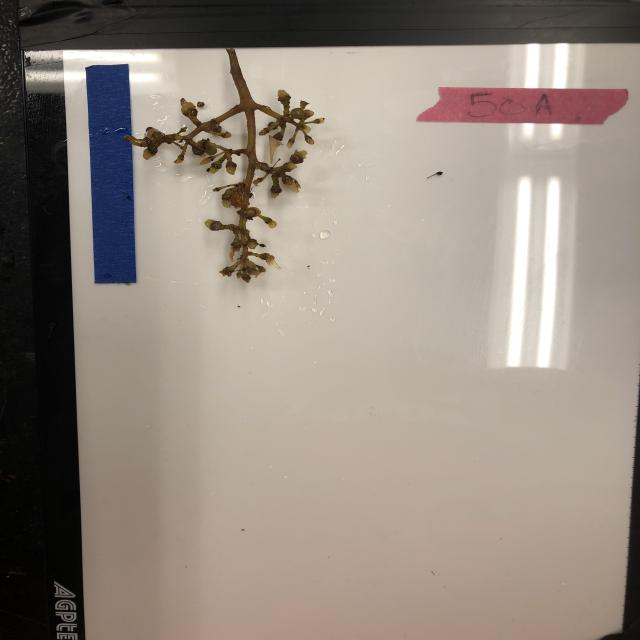index: (415, 84, 629, 126)
measure_label: (84, 62, 139, 285)
rachis_cluster: (127, 45, 326, 284)
